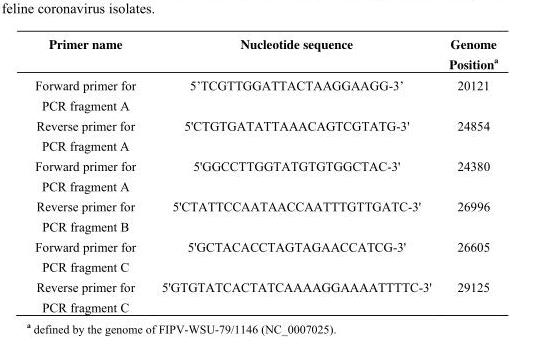table: (34, 34, 497, 313)
table column: (148, 34, 439, 313), (34, 34, 148, 313), (439, 34, 497, 313)
table column header: (34, 34, 497, 75)
table row: (34, 34, 497, 75), (34, 195, 497, 236), (34, 75, 497, 115), (34, 115, 497, 155), (34, 155, 497, 195), (34, 236, 497, 276), (34, 276, 497, 313)
